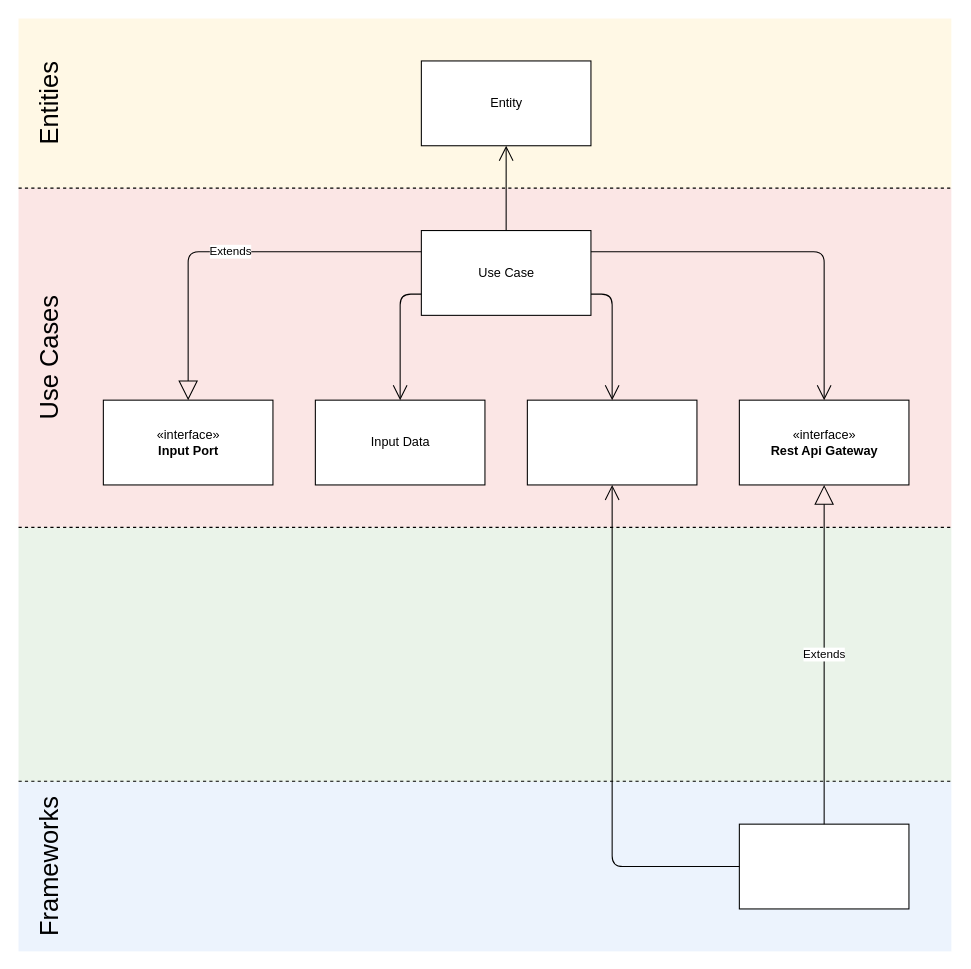
This 971x969 diagram has some shape labels left out. The shapes that lost their labels are listed below. From the top down, each one's centre as x and y in pixels, then its label:
the point at 611,442: Output Data
the point at 484,654: Interface Adapters?
the point at 823,866: Retrofit Rest Api Gateway
